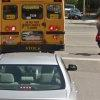Bus: (1, 1, 67, 54)
